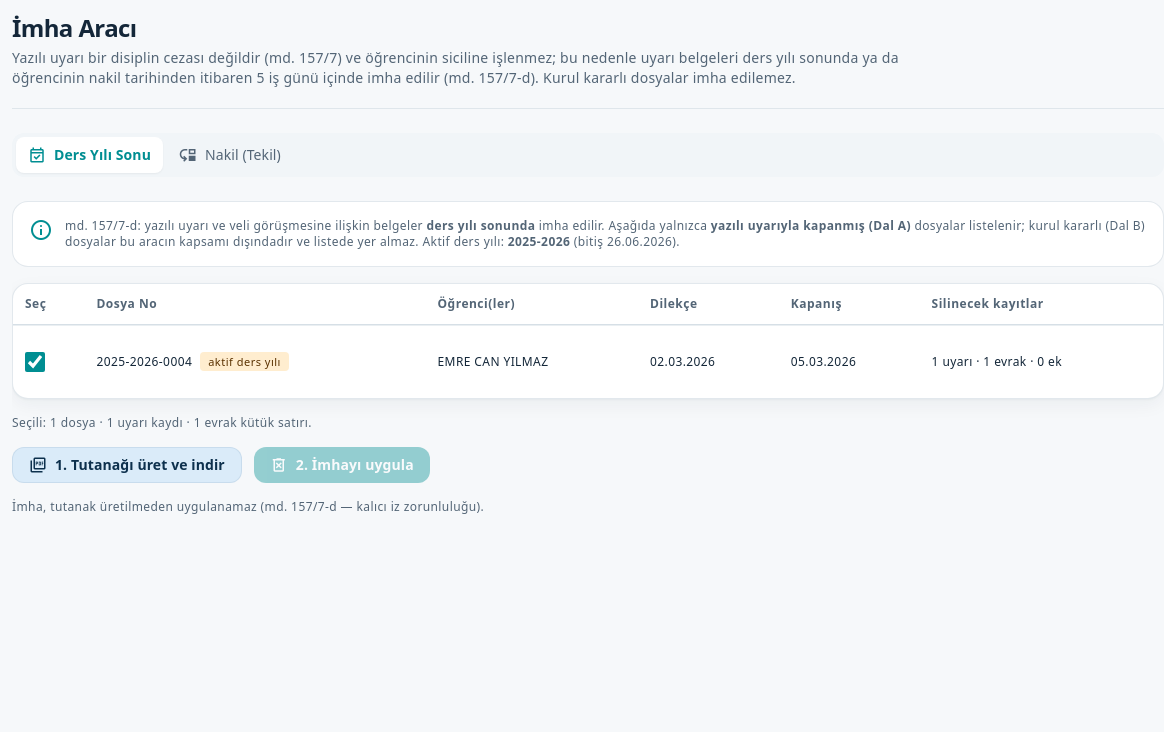
Test: ImhaPage — nakil (tekil) › süre geçtiyse gecikme uyarısı verir
Expected: the text "2025-2026-0004" is shown, [96,353,192,370]
Click the tab "Nakil (Tekil)".
click(230, 155)  # box [167,137,293,173]
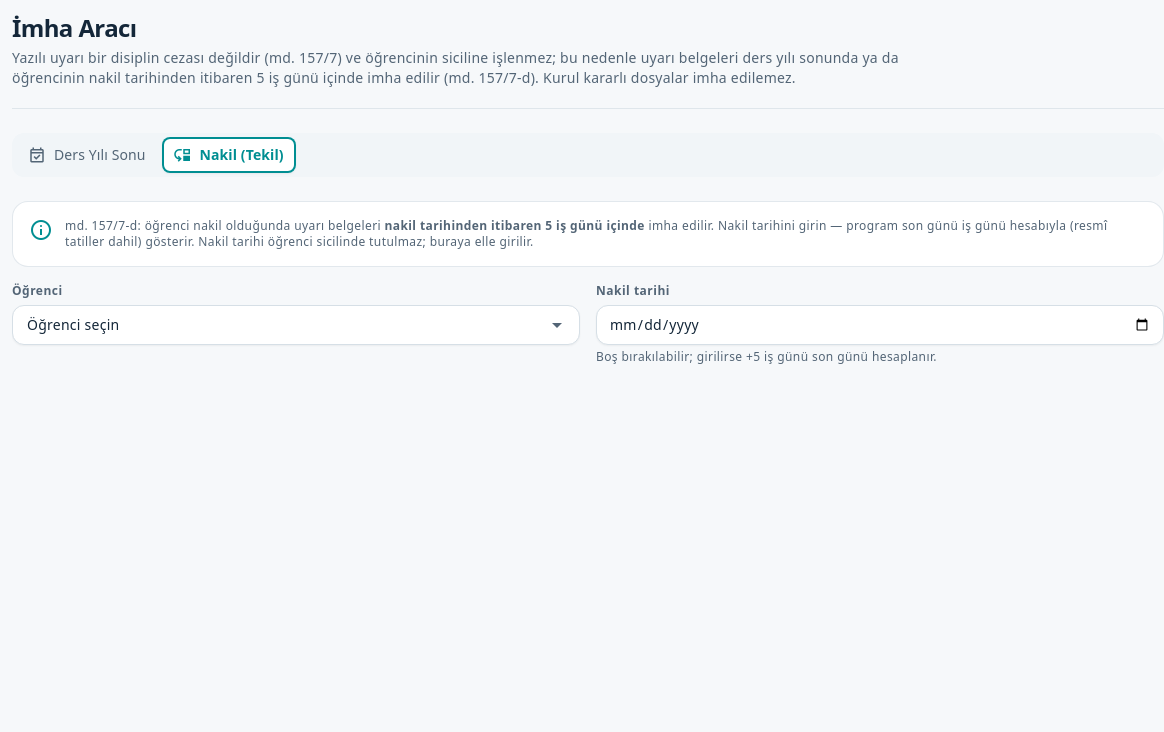
Select "EMRE CAN YILMAZ — 10/A (1 uyarı)" in the dropdown labelled "Öğrenci" at coordinates (284, 325), box [23,315,545,335]
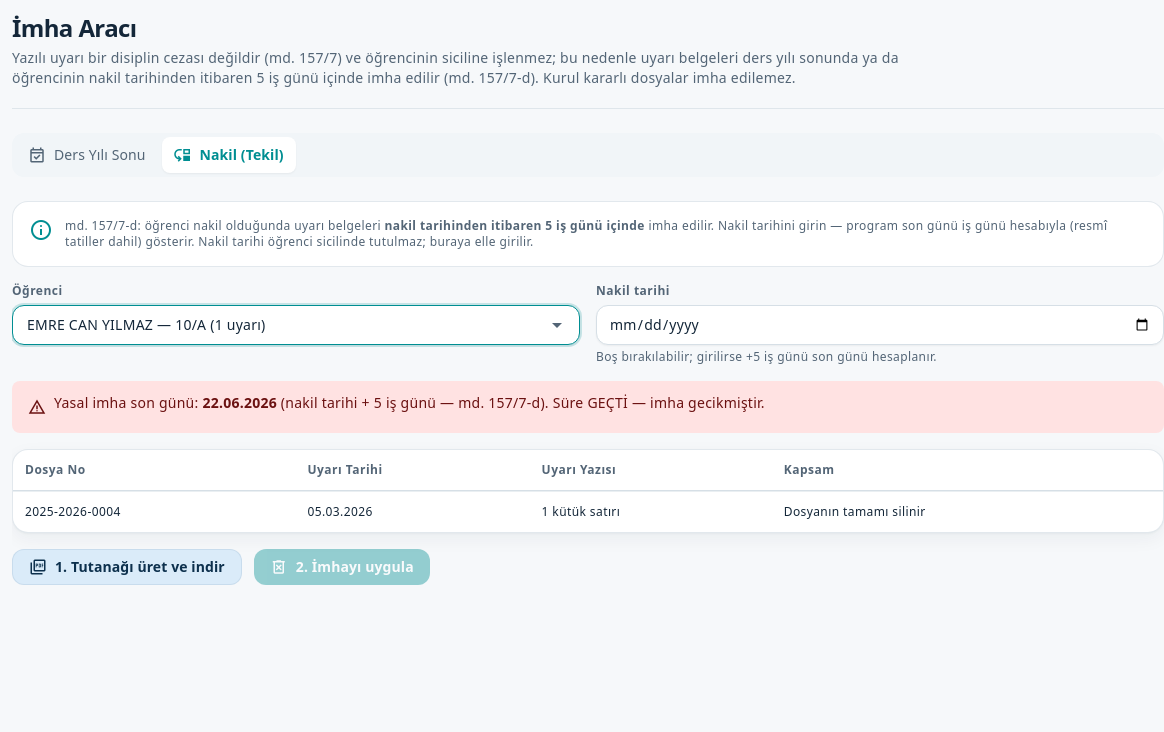
Expected: the text "Süre GEÇTİ" is shown, [553,393,765,412]
